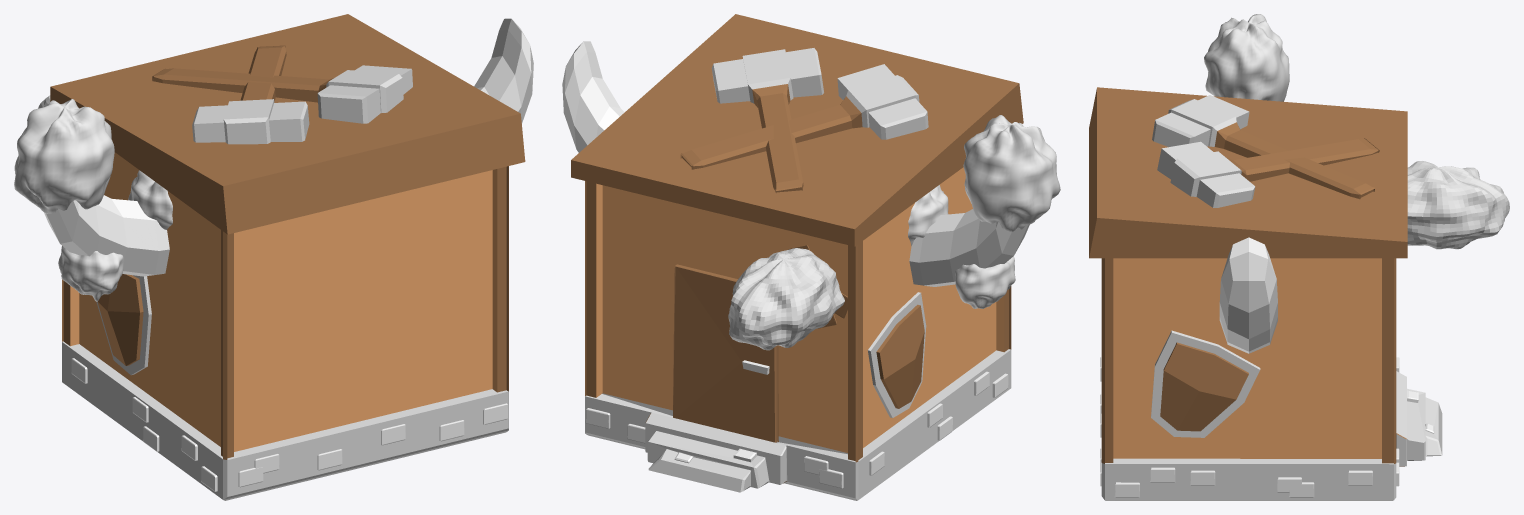
The model's file is ConstructorHouseModel.fbx.
3 renders of one model, left to right at view 1: azimuth 30°, elevation 25°; view 2: azimuth 150°, elevation 25°; view 3: azimuth 270°, elevation 25°, orthographic. The views are drawn at different scales.
Visible parts, largest first — view 1: Cube, Sphere, Cube.025, Cube.003, Cube.030, Cube.026, Cube.002, Sphere.002, Sphere.001; view 2: Cube, Sphere.005, Sphere, Cube.030, Cube.025, Cube.003, Cube.026, Cube.002, Sphere.002, Sphere.001; view 3: Cube, Cube.024, Sphere.005, Cube.025, Cube.030, Sphere, Cube.002.
Boxes of the visible parts, x1,y1,x2,y2 form: Cube: [50, 14, 525, 500]; Sphere: [14, 99, 114, 213]; Cube.025: [152, 65, 412, 123]; Cube.003: [44, 195, 169, 276]; Cube.030: [192, 45, 309, 144]; Cube.026: [96, 274, 151, 375]; Cube.002: [474, 18, 533, 123]; Sphere.002: [58, 246, 123, 301]; Sphere.001: [128, 170, 172, 229]; Cube: [571, 14, 1023, 500]; Sphere.005: [728, 248, 844, 350]; Sphere: [963, 115, 1060, 231]; Cube.030: [680, 64, 928, 169]; Cube.025: [711, 48, 823, 192]; Cube.003: [909, 209, 1029, 286]; Cube.026: [868, 292, 926, 417]; Cube.002: [562, 41, 624, 152]; Sphere.002: [955, 256, 1015, 308]; Sphere.001: [908, 185, 948, 245]; Cube: [1089, 87, 1442, 500]; Cube.024: [1151, 330, 1260, 437]; Sphere.005: [1407, 161, 1509, 249]; Cube.025: [1157, 138, 1379, 207]; Cube.030: [1152, 95, 1374, 199]; Sphere: [1204, 14, 1289, 101]; Cube.002: [1219, 237, 1277, 353].
Bounding box in the file's own units: 509 × 343 × 405.
